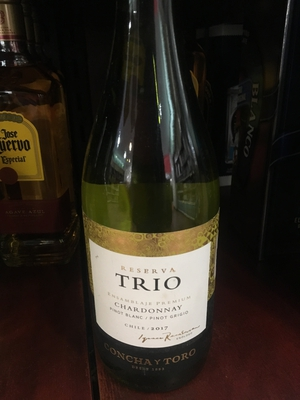trio chardonnay: (78, 7, 229, 385)
